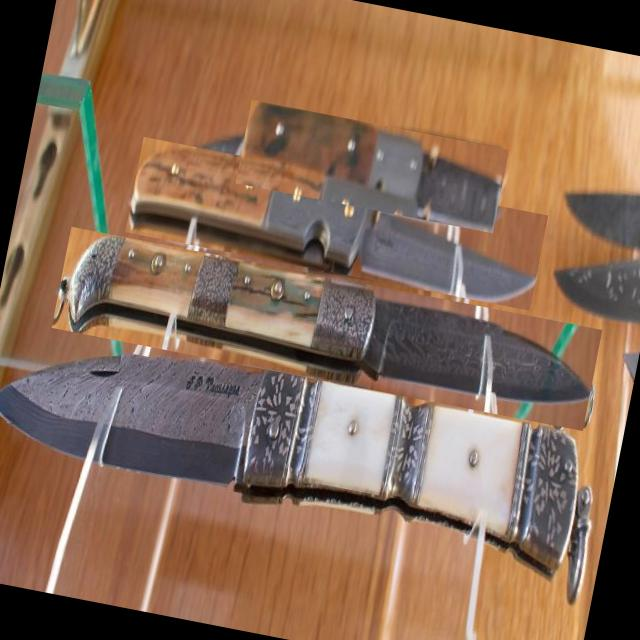Knife: (0, 355, 590, 595), (56, 236, 590, 402), (130, 148, 535, 302), (245, 103, 501, 232), (191, 137, 244, 176)
